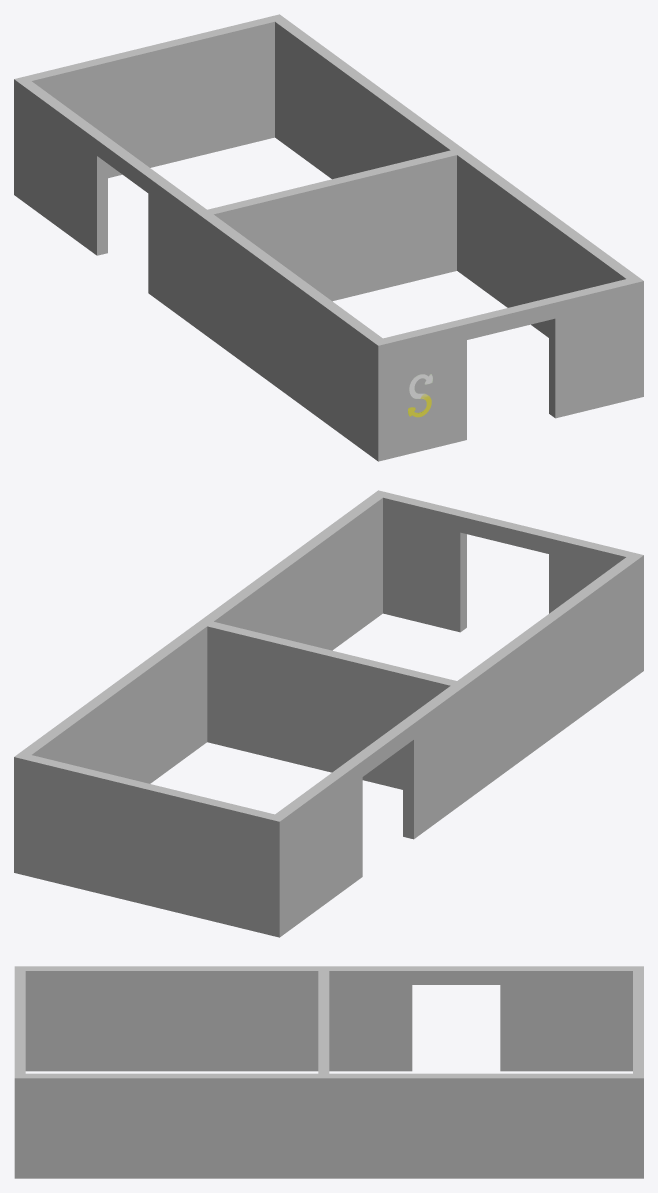
The model's file is FBX_lv2_Room.fbx.
3 renders of one model, top to bottom at view 1: azimuth 30°, elevation 25°; view 2: azimuth 150°, elevation 25°; view 3: azimuth 270°, elevation 25°, orthographic. The views are drawn at different scales.
Visible parts, largest first — view 1: Room_lv2; view 2: Room_lv2; view 3: Room_lv2.
Boxes of the visible parts, x1,y1,x2,y2 form: Room_lv2: (14,14,643,461); Room_lv2: (14,490,643,937); Room_lv2: (14,966,643,1178).
Bounding box in the file's own units: 600 × 250 × 1427.
